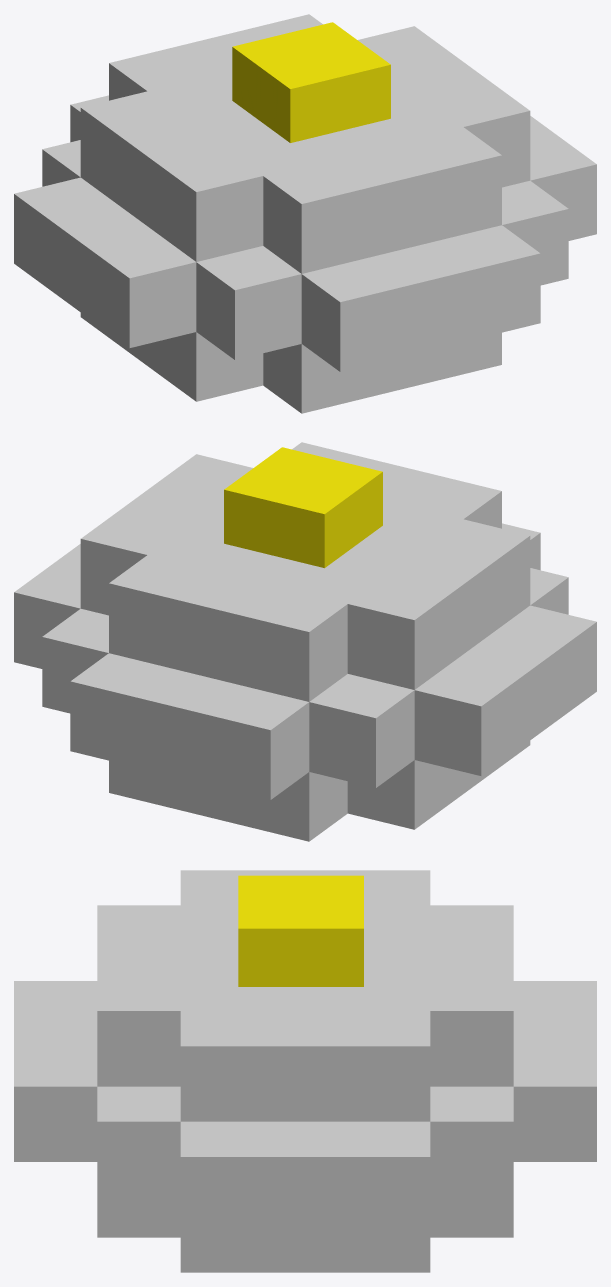
The model's file is fleur1.fbx.
3 renders of one model, top to bottom at view 1: azimuth 30°, elevation 25°; view 2: azimuth 150°, elevation 25°; view 3: azimuth 270°, elevation 25°, orthographic. The views are drawn at different scales.
Parts seen in each view (by area): view 1: Sphere.018; view 2: Sphere.018; view 3: Sphere.018.
Boxes of the visible parts, x1=… form: Sphere.018: x1=14, y1=14, x2=596, y2=413; Sphere.018: x1=14, y1=442, x2=596, y2=841; Sphere.018: x1=14, y1=870, x2=596, y2=1272.
Size of the model in its own units: 79.74 by 42.97 by 79.74.
